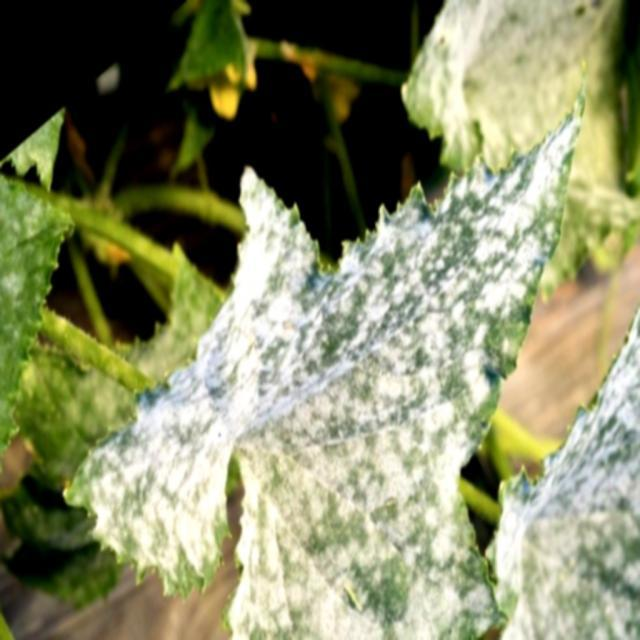Leaf_Mold: (314, 96, 597, 640), (52, 152, 338, 638), (482, 307, 640, 640)
